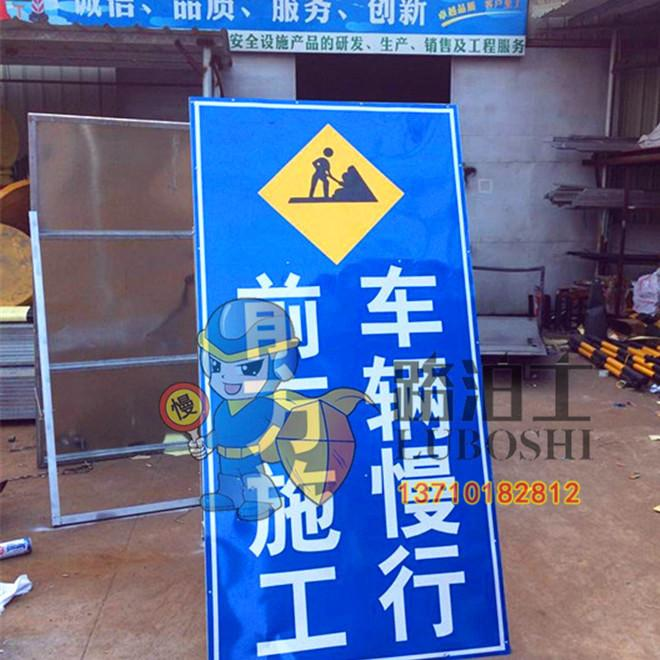sign: (195, 102, 489, 636)
